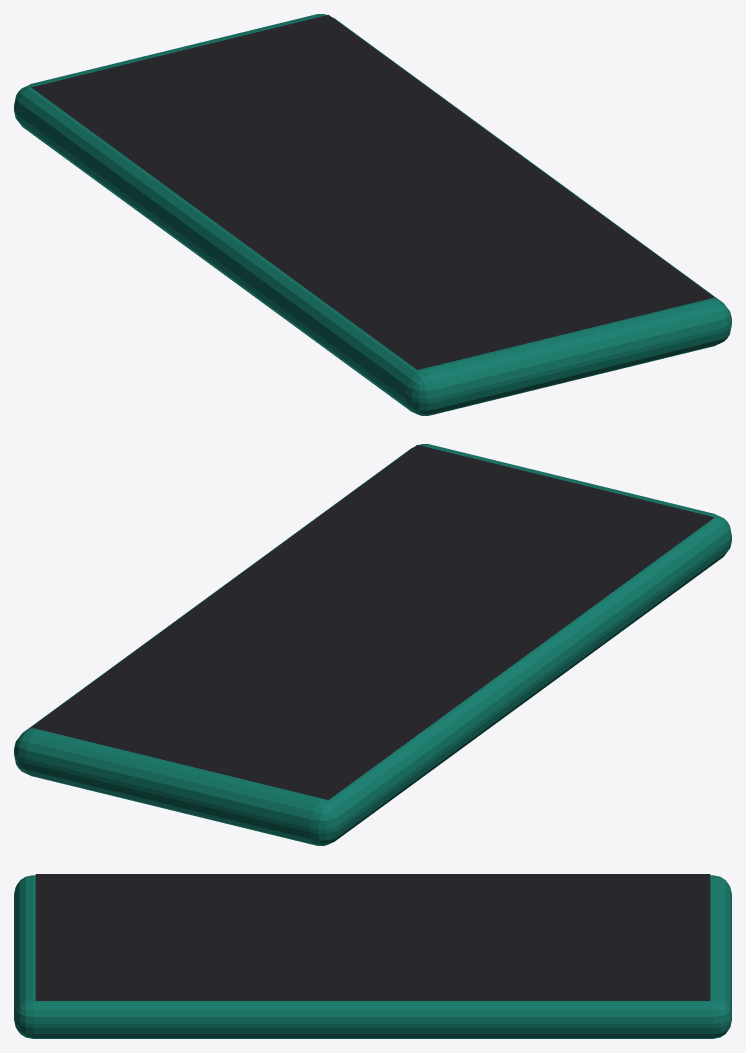
The model's file is Phone_717.glb.
3 renders of one model, top to bottom at view 1: azimuth 30°, elevation 25°; view 2: azimuth 150°, elevation 25°; view 3: azimuth 270°, elevation 25°, orthographic. The views are drawn at different scales.
Parts seen in each view (by area): view 1: Phone_Screen, Phone_Body; view 2: Phone_Screen, Phone_Body; view 3: Phone_Screen, Phone_Body.
Part boxes in pixels (left/top/right/bottom): Phone_Screen: left=31, top=15, right=714, bottom=369; Phone_Body: left=14, top=14, right=731, bottom=415; Phone_Screen: left=31, top=445, right=714, bottom=799; Phone_Body: left=14, top=444, right=731, bottom=845; Phone_Screen: left=35, top=874, right=710, bottom=1000; Phone_Body: left=14, top=875, right=731, bottom=1038.
Bounding box in the file's own units: 0.0721 × 0.0095 × 0.1587.
